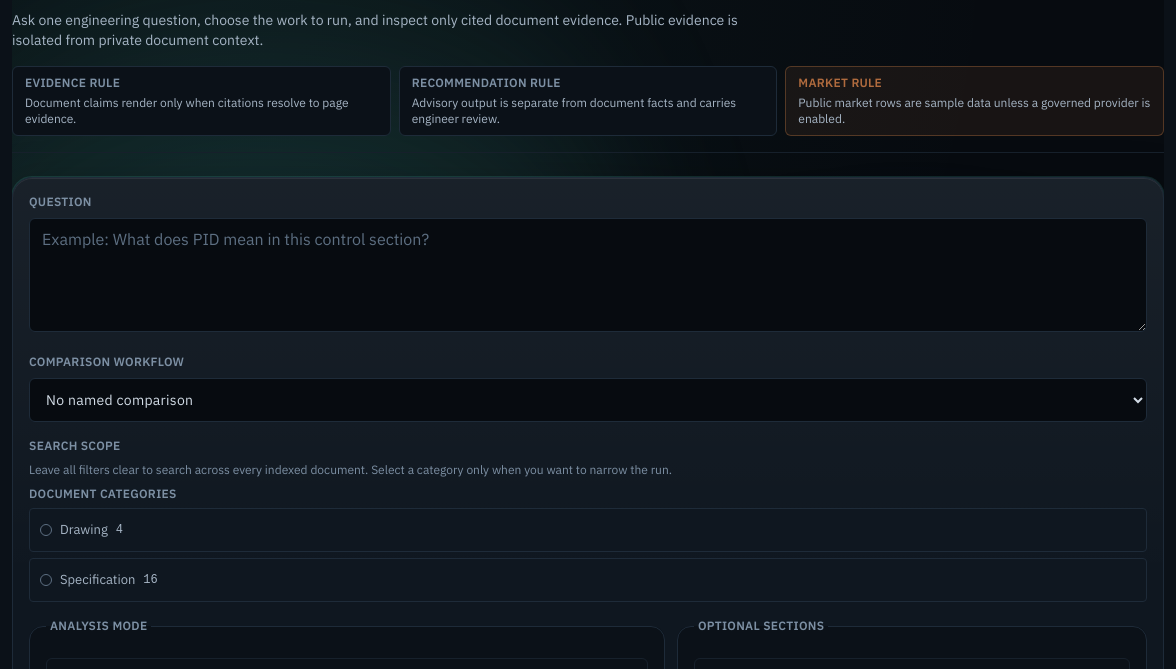
Test: AnalysisModeScreen: an empty result under an active filter explains why › keeps the unfiltered empty wording when no filter is active
This screenshot has width=1176, height=669.
Check: the checkbox labelled "Drawing 4" is shown, box [29,508,1147,552]
Type "what is the pressure floor" into the text box labelled "Question".
click(588, 275); type("what is the pressure floor")  # box [29,218,1147,332]
(page scrolled)
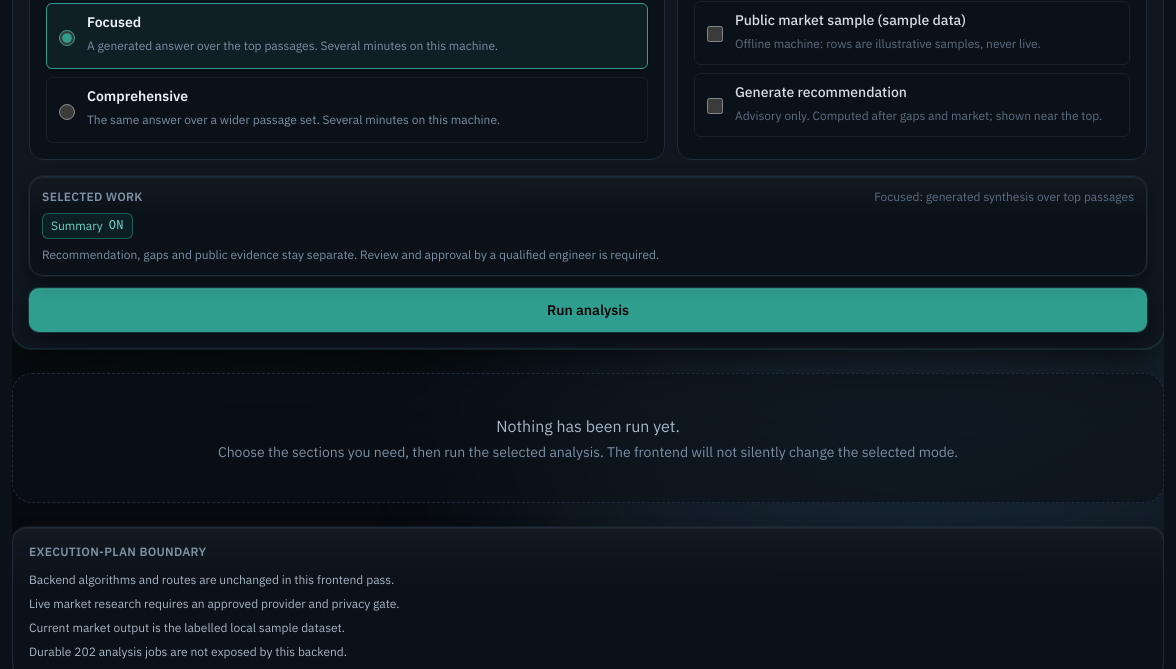
Click the button "Run analysis".
click(588, 310)  # box [29,288,1147,332]
(page scrolled)
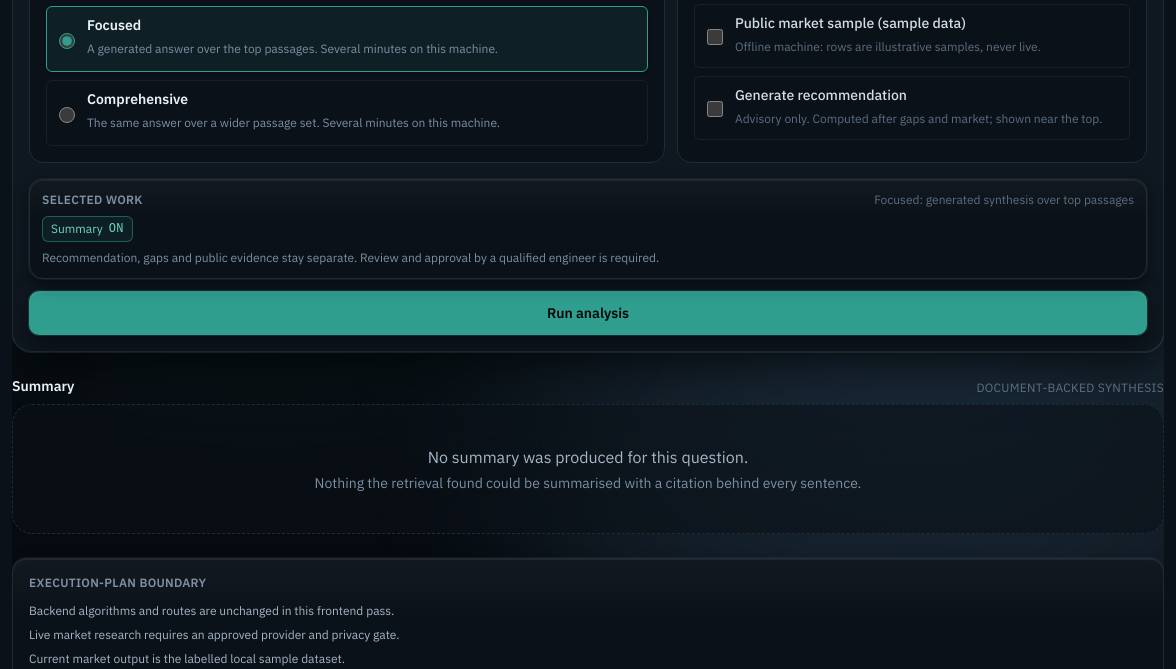
Check: the text "Nothing the retrieval found could be summarised" is shown, box [315,474,861,492]
